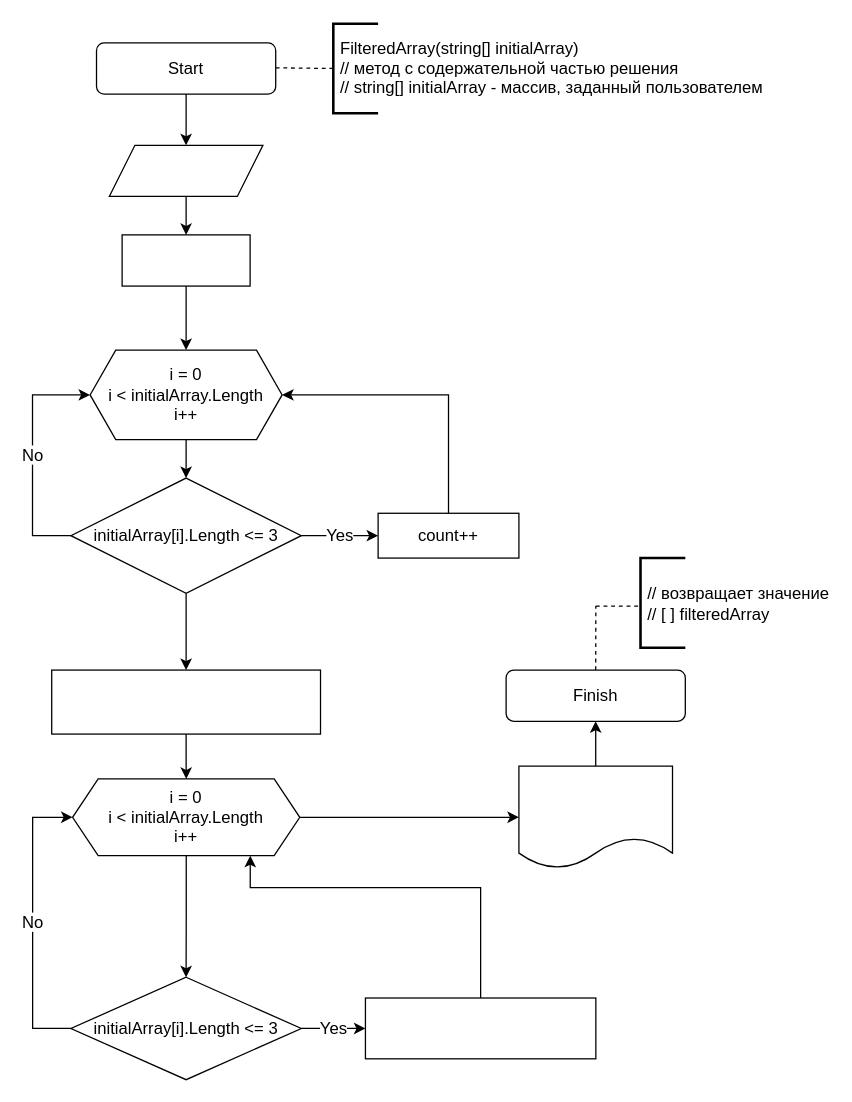
Some shapes in this 852 by 1102 pixel diagram are drawn without their labels. The shapes that lost their labels are listed below. From the top down, each one's box as (x1, y1, x2, y2) in pixels, then its label:
(108, 144, 263, 196): Input: [ ] initialArray
(121, 234, 250, 286): count = 0
(50, 669, 321, 734): int j = 0 [ ] filteredArray = new string[count]
(518, 765, 673, 868): Output: [ ] filteredArray
(364, 997, 596, 1059): filteredArray[j] = initialArray[i] j++
